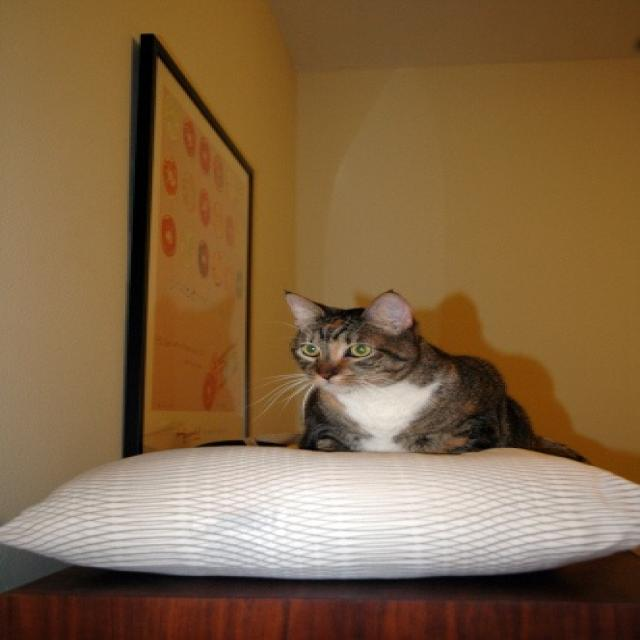cat: (249, 289, 588, 465)
